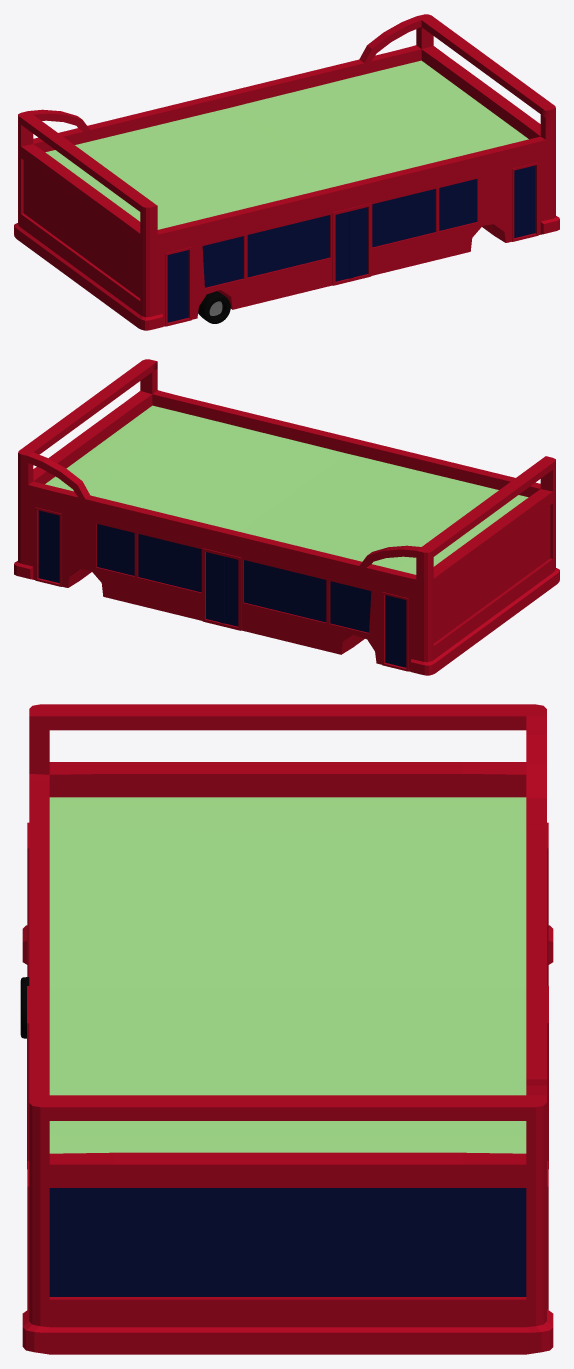
File: bus_fixes.fbx
The picture shows the model from 3 angles, top to bottom: view 1: azimuth 30°, elevation 25°; view 2: azimuth 150°, elevation 25°; view 3: azimuth 270°, elevation 25°; orthographic projection. The views are drawn at different scales.
Visible parts, largest first — view 1: BézierCurve.006 Remeshed Remeshed, Cylinder.001; view 2: BézierCurve.006 Remeshed Remeshed; view 3: BézierCurve.006 Remeshed Remeshed.
Boxes of the visible parts, left/top/right/bottom form: BézierCurve.006 Remeshed Remeshed: left=14, top=14, right=559, bottom=330; Cylinder.001: left=198, top=291, right=230, bottom=323; BézierCurve.006 Remeshed Remeshed: left=14, top=359, right=559, bottom=675; BézierCurve.006 Remeshed Remeshed: left=22, top=704, right=553, bottom=1354.
Bounding box in the file's own units: 1287 × 386 × 711.
